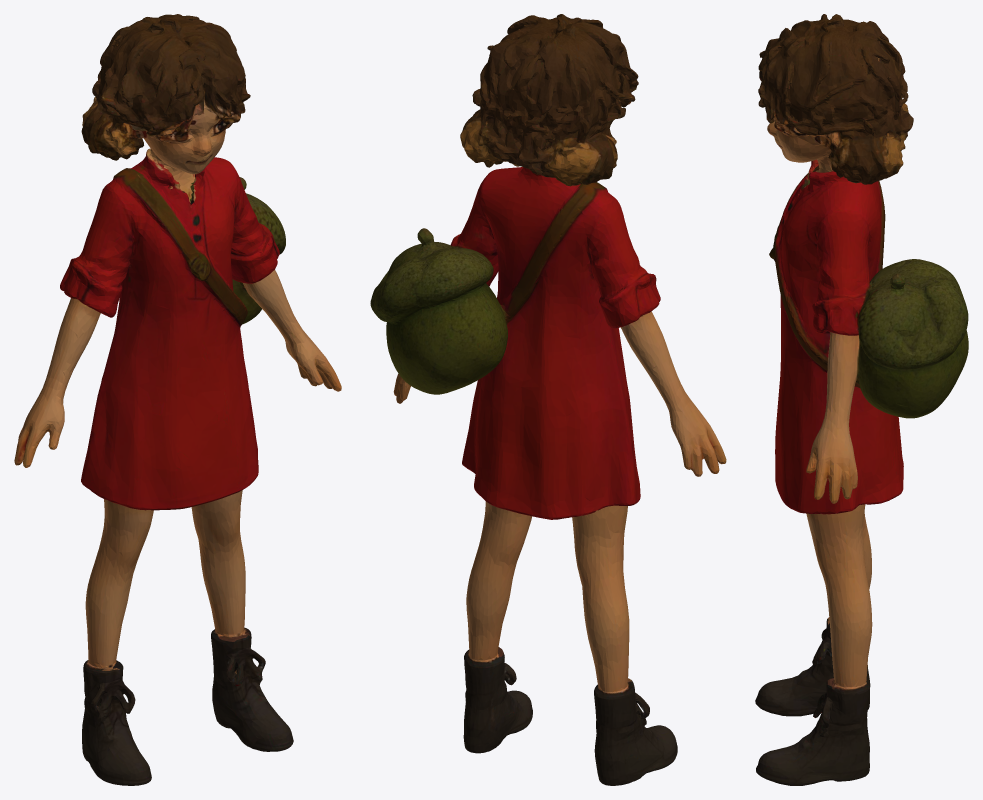
Rendered from girl.glb.
3 renders of one model, left to right at view 1: azimuth 30°, elevation 25°; view 2: azimuth 150°, elevation 25°; view 3: azimuth 270°, elevation 25°, orthographic. The views are drawn at different scales.
Visible parts, largest first — view 1: textured.obj; view 2: textured.obj; view 3: textured.obj.
Boxes of the visible parts, x1,y1,x2,y2 form: textured.obj: [14, 14, 341, 785]; textured.obj: [370, 14, 726, 785]; textured.obj: [755, 14, 968, 785].
Bounding box in the file's own units: 0.9134 × 1.99 × 0.5333.
1 material, 1 textured.
